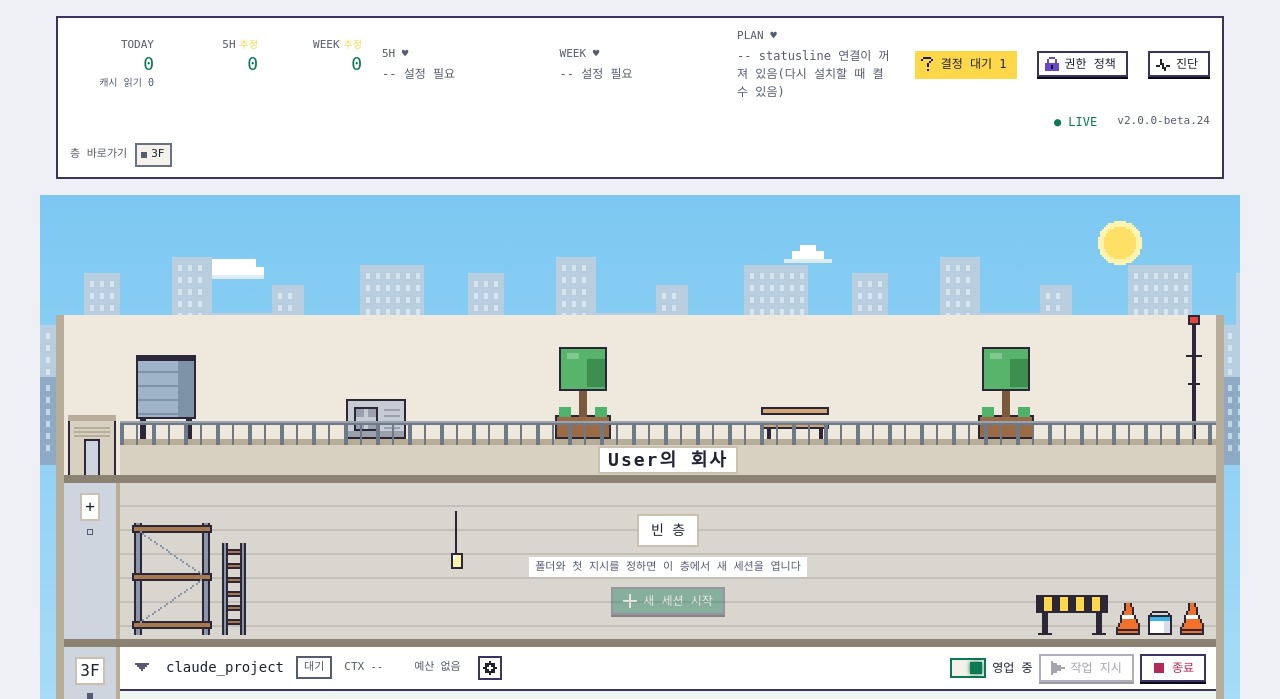
Test: 결정 보고서 열기 › 구성원과 짝이 없는 결정도 칩으로 열린다
Step 1. Click the button with aria-label "결정 대기 1건, 다음 요청 열기" → (966, 64), box [915,51,1016,77]
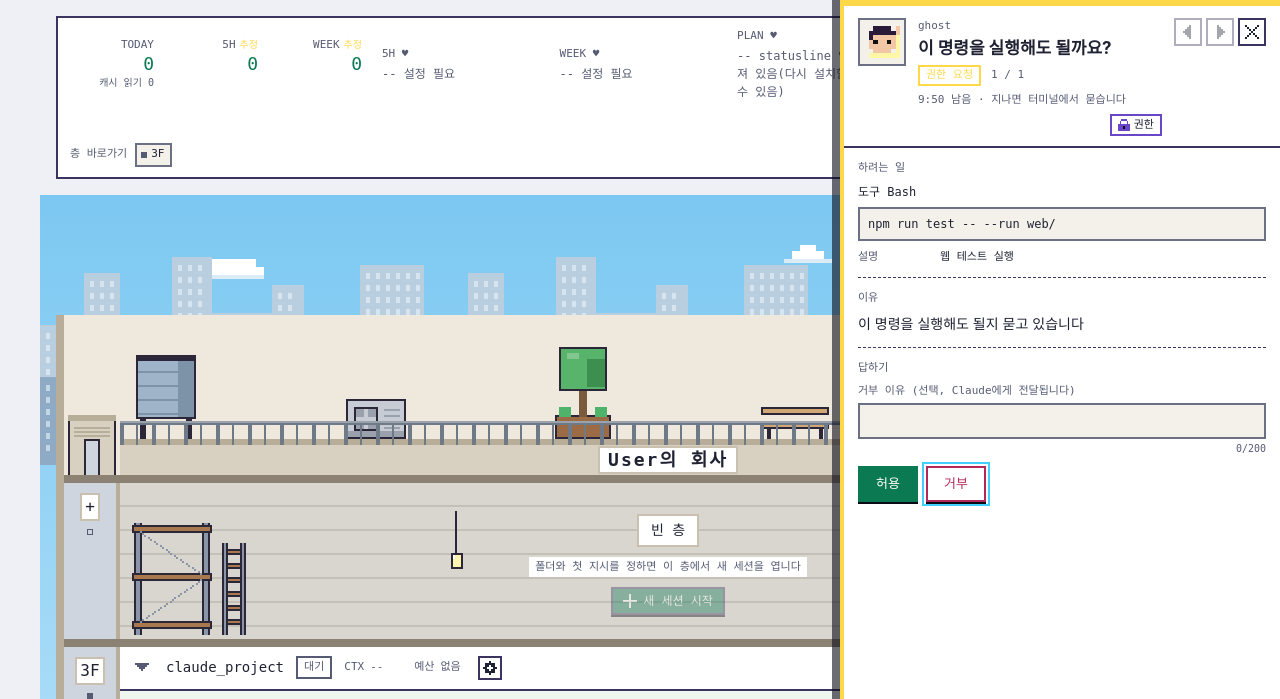
Expected: the dialog shows "ghost", [918,19,951,32]
Expected: the dialog shows "1 / 1", [991,68,1024,81]
